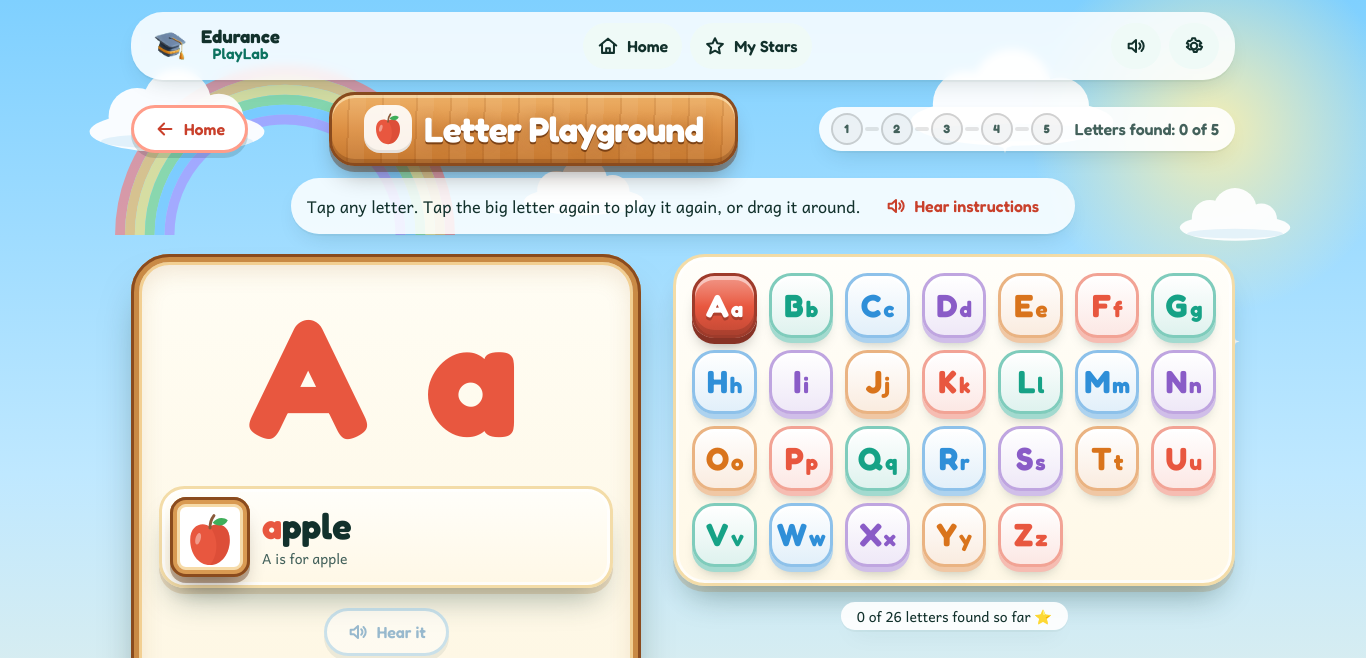
Test: Progress › updates session and lifetime numbers after playing, and shows the finished round under recent
Click the button named "Letter A,": (725, 306) [692,273,757,338]
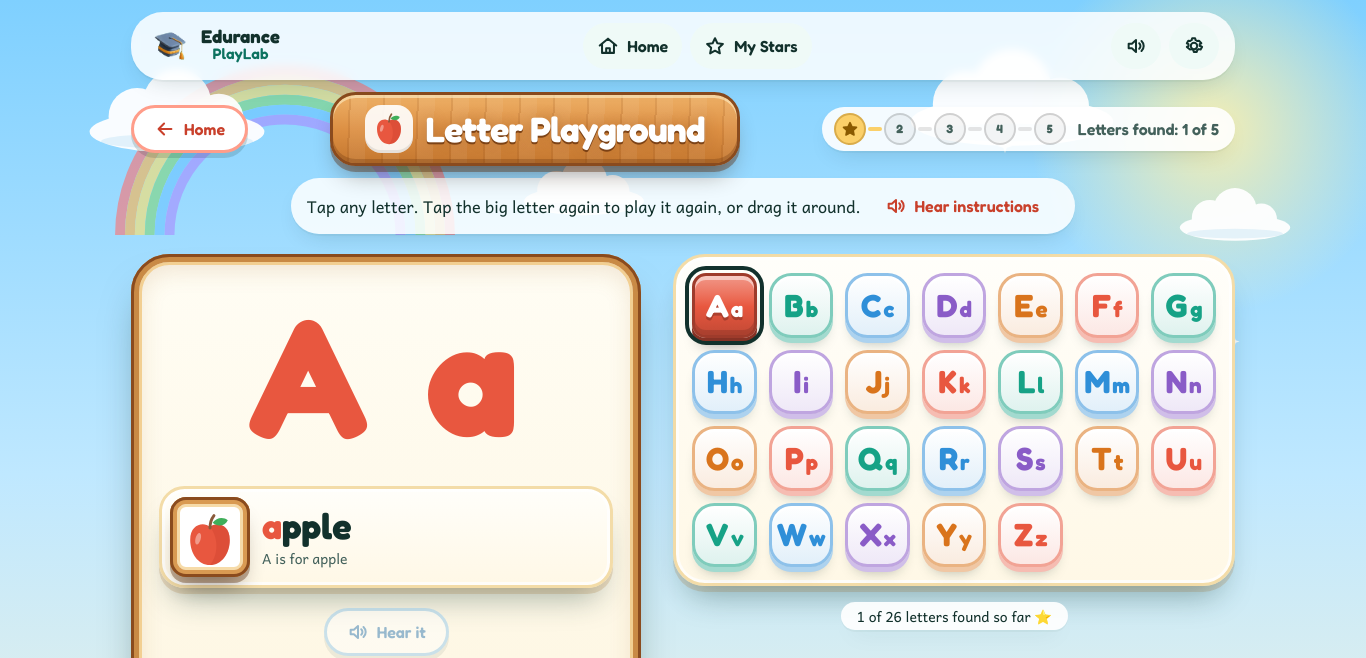
Click the button "B b": (801, 306) [769,273,834,338]
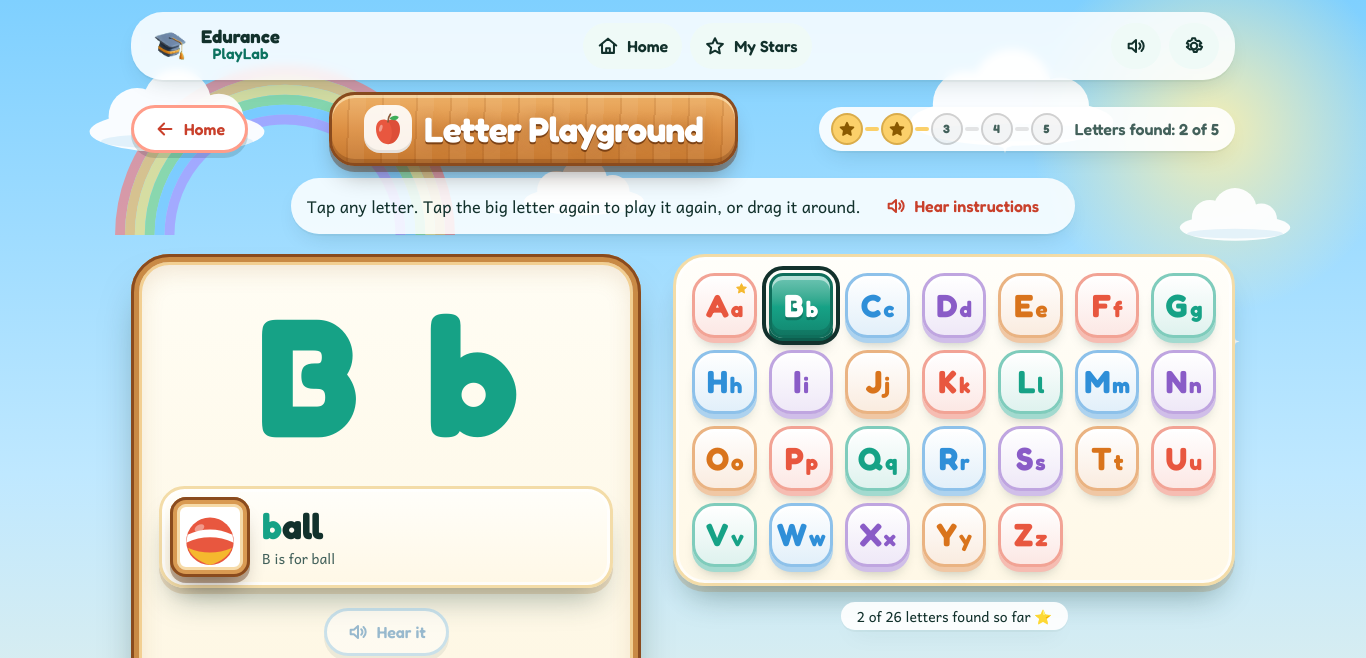
Click the button "C c": (878, 306) [846,273,910,338]
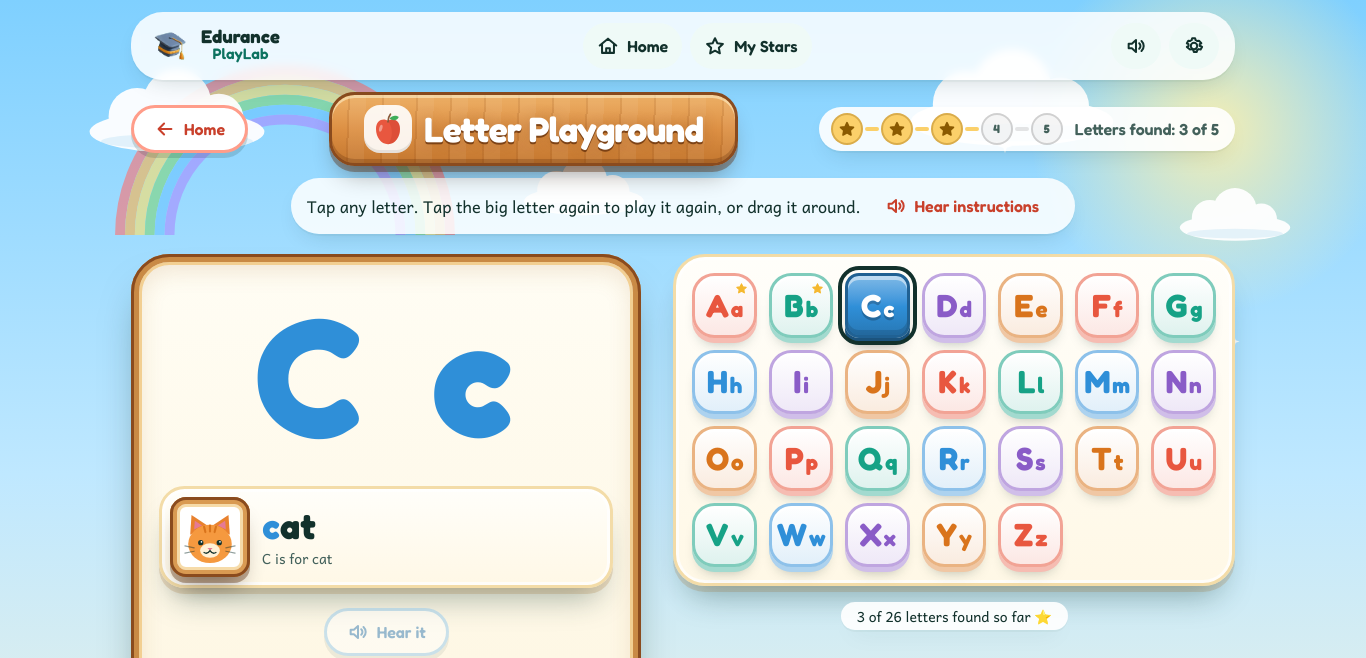
Click the button "D d": (954, 306) [922,273,986,338]
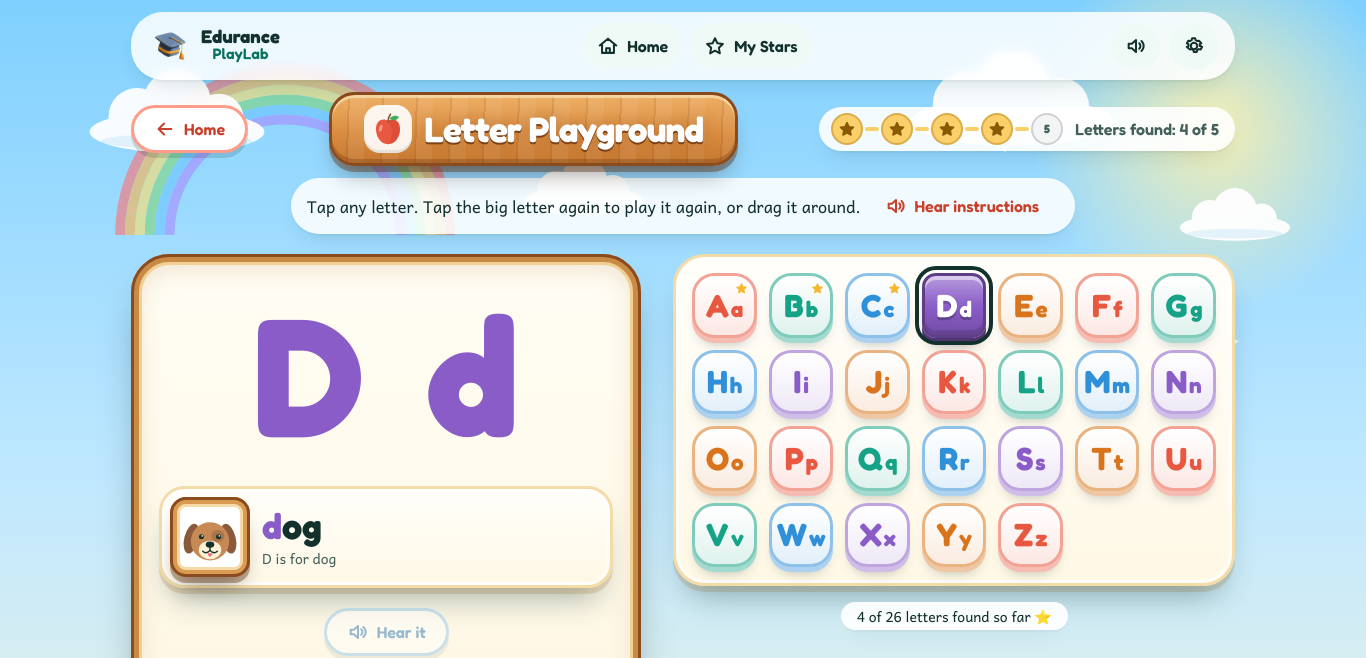
Click the button "E e": (1031, 306) [998,273,1063,338]
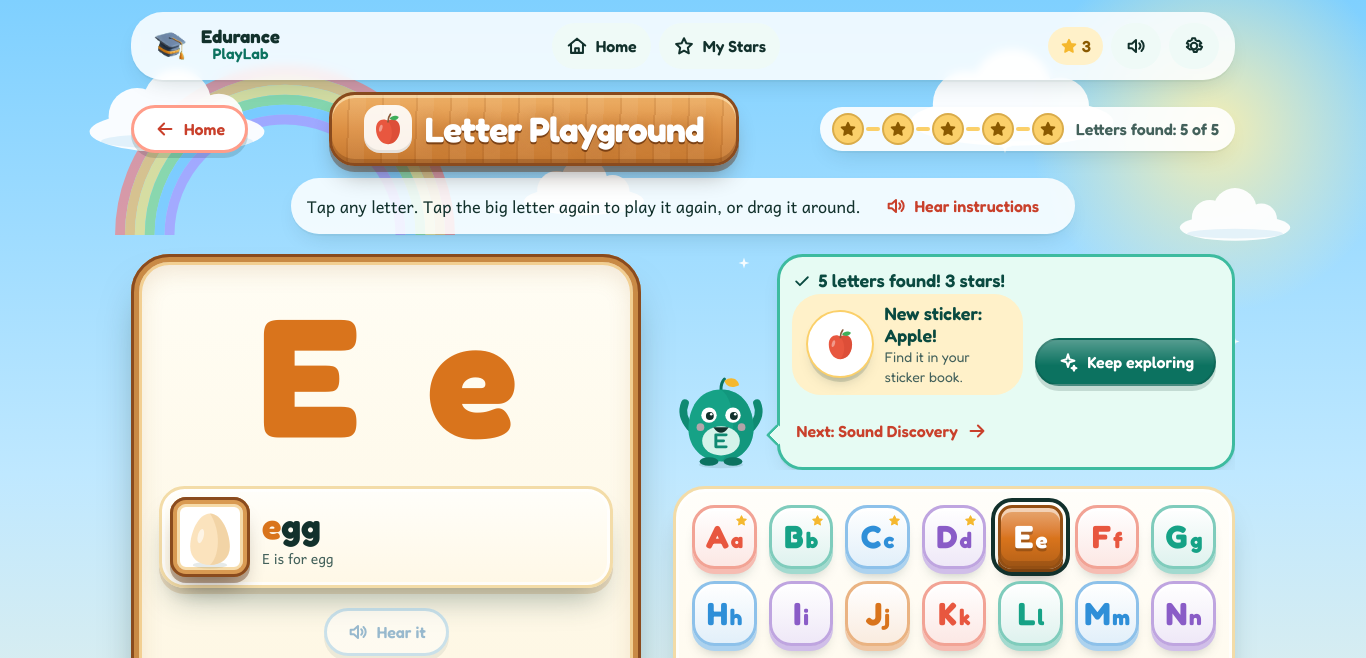
Click the button "My Stars": (719, 46) [659,23,780,69]
(page scrolled)
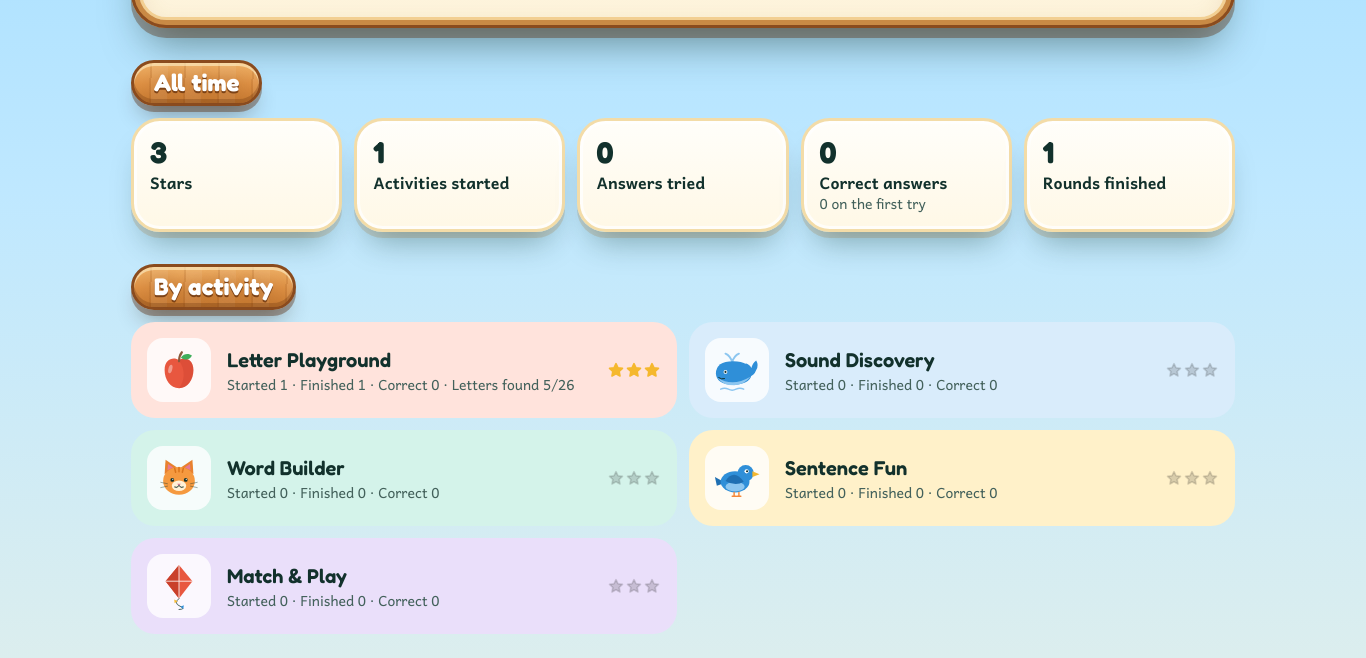
Expected: the text "Started 1 · Finished 1 · Correct 0 · Letters found 5/26" is shown, [227,374,591,394]
